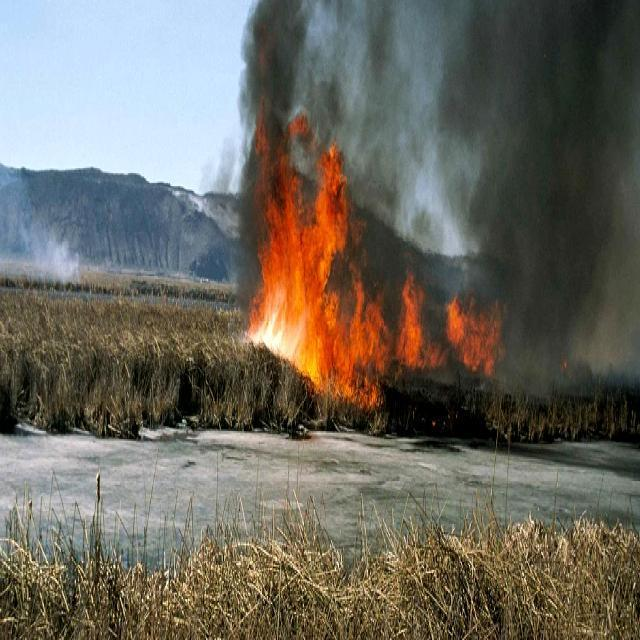Fire: (246, 184, 390, 413), (388, 264, 516, 376)
Smoke: (448, 0, 630, 406), (218, 0, 434, 251), (0, 199, 87, 288)
